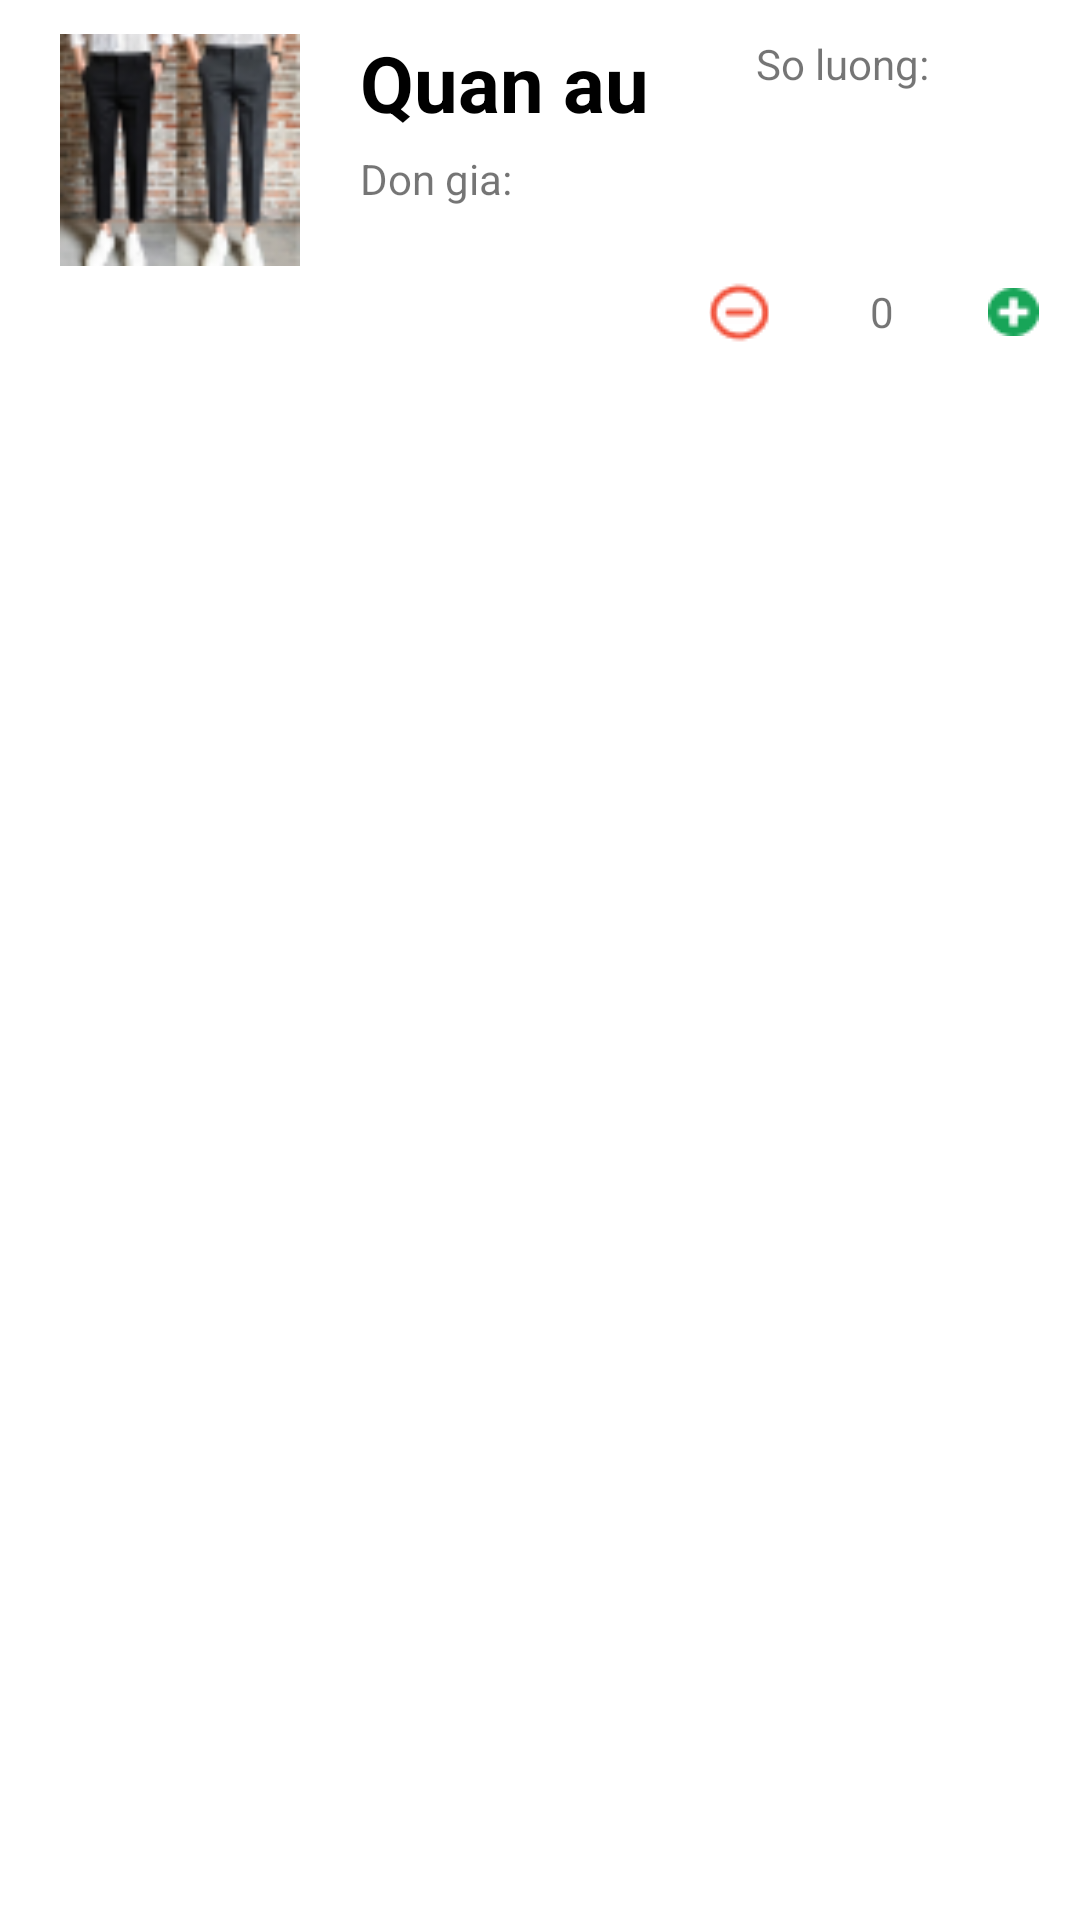

Named icons in this screenshot (1080×1920) and their bounding boxes, (x1, y1, x2, y2):
add: (988, 288, 1039, 336)
minus: (710, 283, 769, 341)
